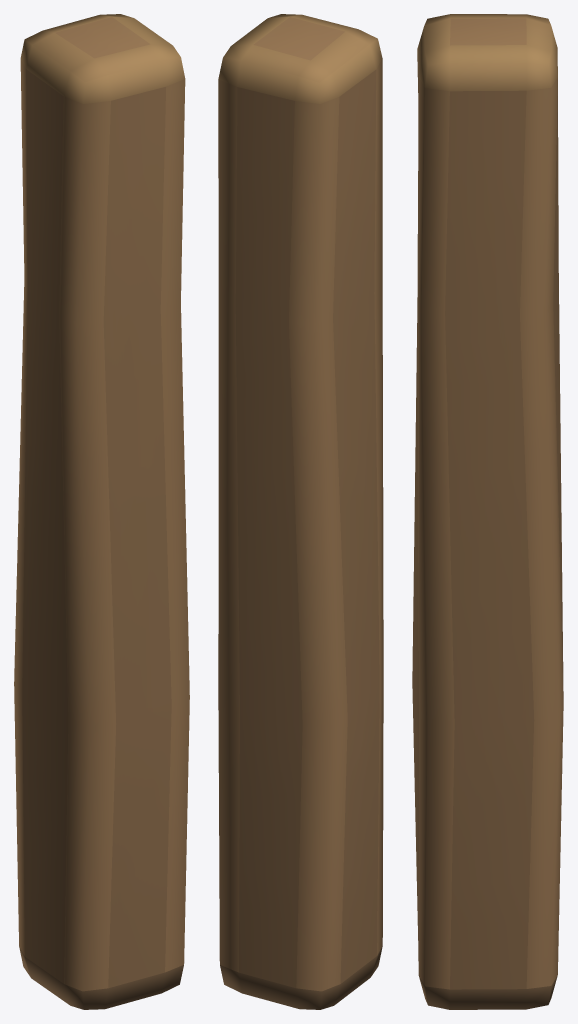
File: fence1_post_LOD_setup.fbx
3 renders of one model, left to right at view 1: azimuth 30°, elevation 25°; view 2: azimuth 150°, elevation 25°; view 3: azimuth 270°, elevation 25°, orthographic.
Visible parts, largest first — view 1: fence1_post_LOD0; view 2: fence1_post_LOD0; view 3: fence1_post_LOD0.
Boxes of the visible parts, bbox=[...] form: fence1_post_LOD0: bbox=[14, 14, 189, 1009]; fence1_post_LOD0: bbox=[218, 14, 383, 1009]; fence1_post_LOD0: bbox=[412, 14, 563, 1009].
Size of what is drawn, in the model's own units: 28.82 by 207 by 29.47.
